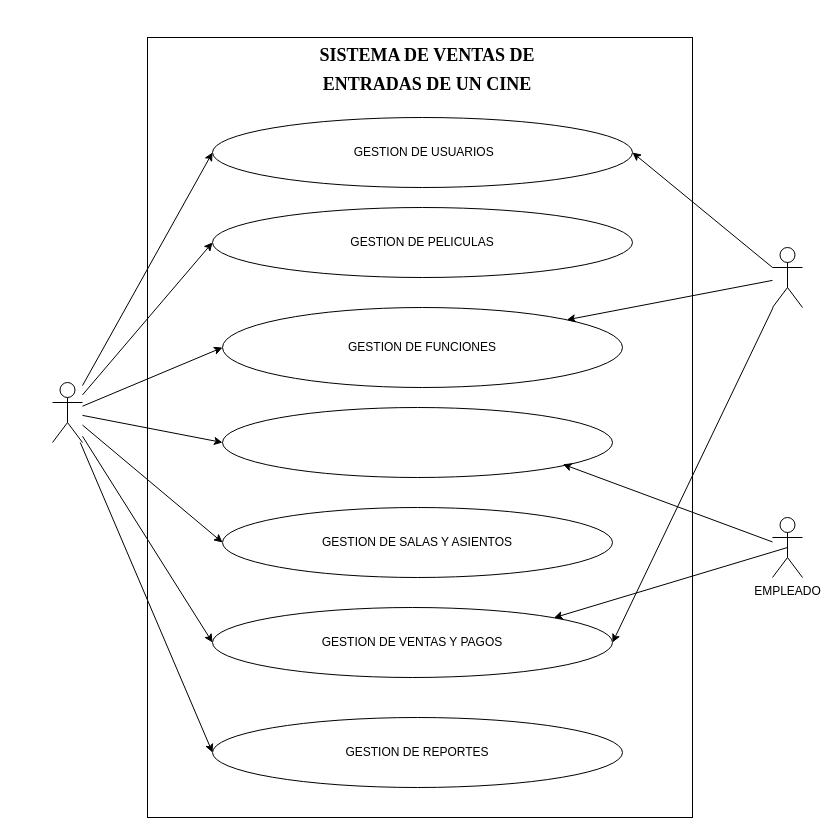
The diagram is 838 pixels wide and 835 high, and some of its shapes have lost their labels. The box of each missing label's shape, as (x1, y1, x2, y2) in pixels:
ADMINISTRADOR: (52, 382, 82, 442)
CLIENTE: (772, 246, 802, 308)
GESTION DE PROMOCIONES: (222, 406, 612, 478)
